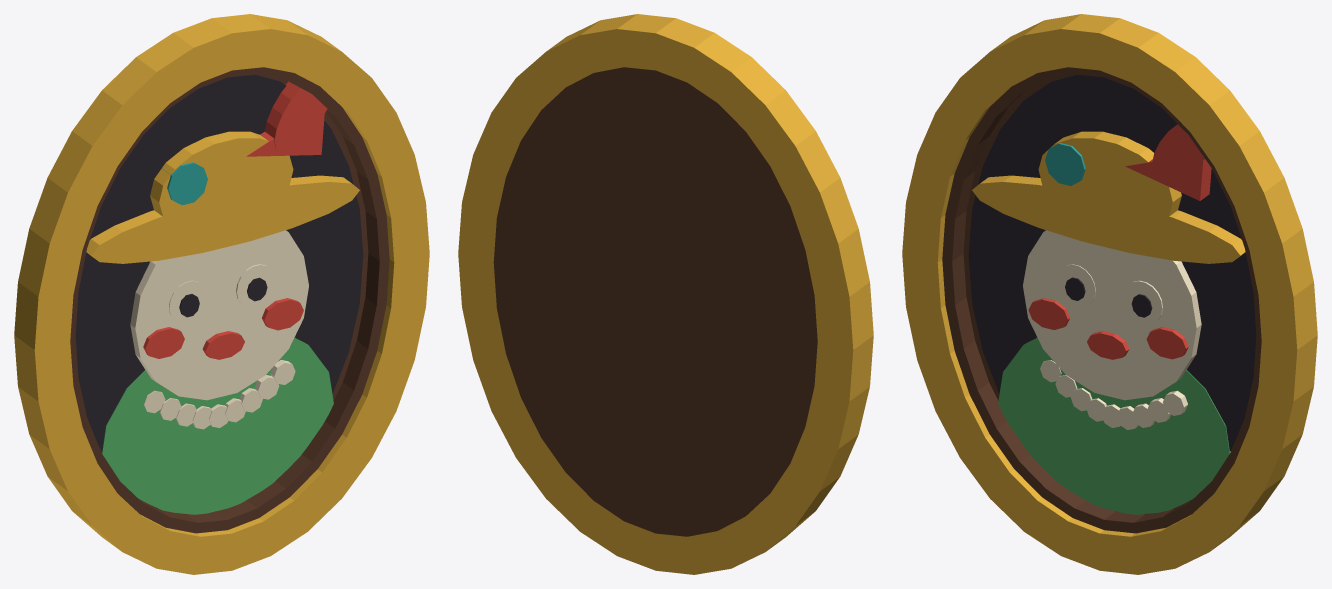
File: portrait_frame_b.glb
3 renders of one model, left to right at view 1: azimuth 30°, elevation 25°; view 2: azimuth 150°, elevation 25°; view 3: azimuth 330°, elevation 25°, orthographic.
Parts seen in each view (by area): view 1: portrait_frame_b; view 2: portrait_frame_b; view 3: portrait_frame_b.
Part boxes in pixels (bbox=[...]): portrait_frame_b: bbox=[14, 14, 429, 574]; portrait_frame_b: bbox=[458, 14, 873, 574]; portrait_frame_b: bbox=[902, 14, 1317, 574].
Size of the model in its own units: 1 by 1.3 by 0.09.
